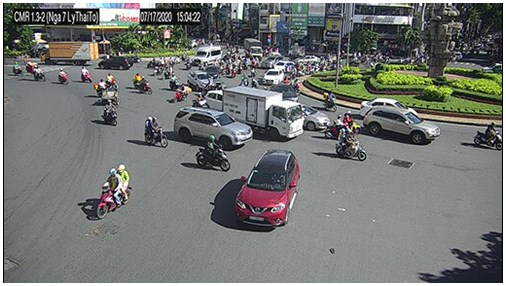xe_hoi: (361, 106, 442, 145), (173, 108, 253, 147), (356, 96, 417, 120), (96, 55, 135, 70), (263, 68, 284, 86)
xe_khach: (192, 46, 221, 65)
xe_may: (95, 164, 133, 219), (196, 135, 231, 172), (335, 130, 367, 162), (473, 122, 504, 151), (325, 116, 356, 141), (144, 116, 168, 148), (94, 78, 117, 96), (321, 88, 338, 112), (104, 100, 118, 128), (173, 82, 190, 103), (137, 75, 152, 94), (33, 64, 47, 84), (80, 65, 94, 83), (166, 72, 180, 89), (58, 67, 68, 85), (291, 77, 301, 94), (143, 58, 158, 69), (242, 72, 249, 86)
xe_tai: (38, 42, 98, 67), (242, 38, 261, 57)
